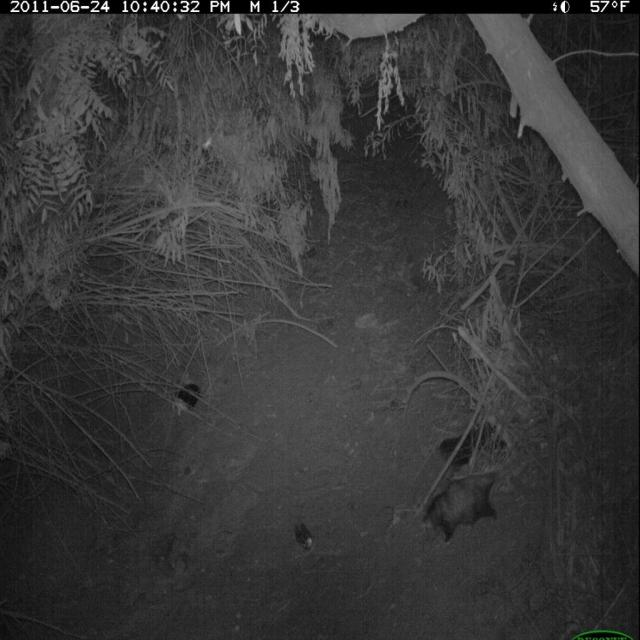opossum: (426, 464, 519, 550)
